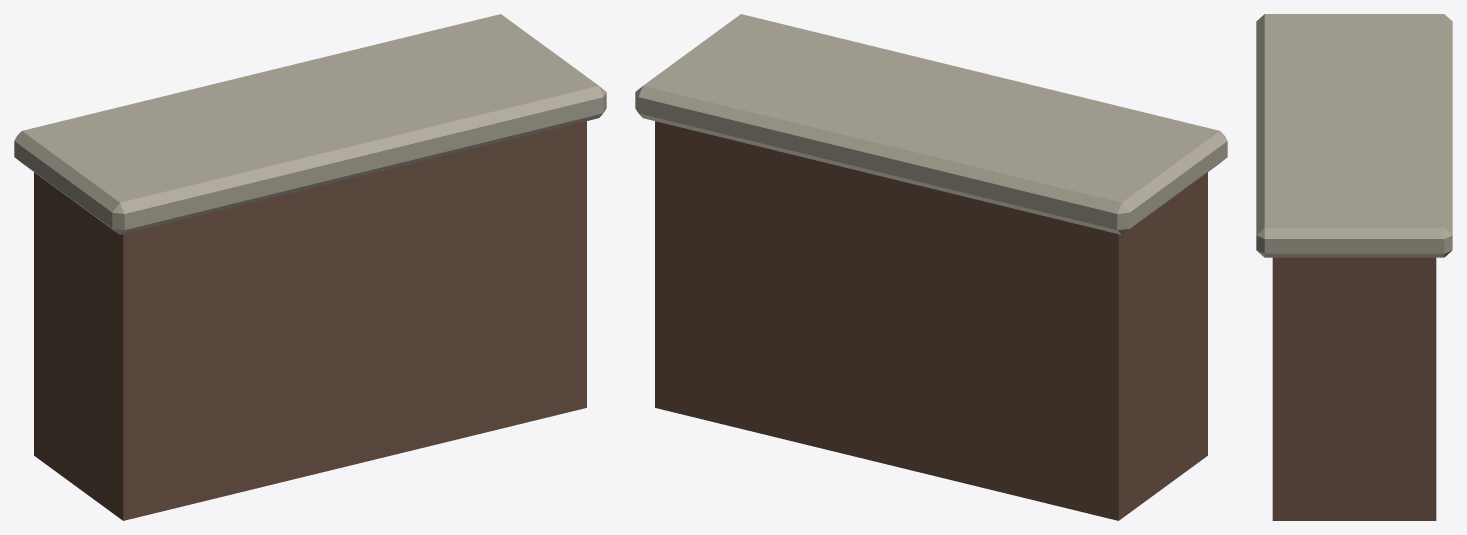
File: victorian_wall_stone_thick.fbx
The picture shows the model from 3 angles, left to right: view 1: azimuth 30°, elevation 25°; view 2: azimuth 150°, elevation 25°; view 3: azimuth 270°, elevation 25°; orthographic projection. The views are drawn at different scales.
Visible parts, largest first — view 1: Cube.256; view 2: Cube.256; view 3: Cube.256.
Boxes of the visible parts, <box> form: Cube.256: <box>14,14,606,520</box>; Cube.256: <box>635,14,1227,520</box>; Cube.256: <box>1256,14,1452,520</box>.
Size of the model in its own units: 320 by 200 by 120.
